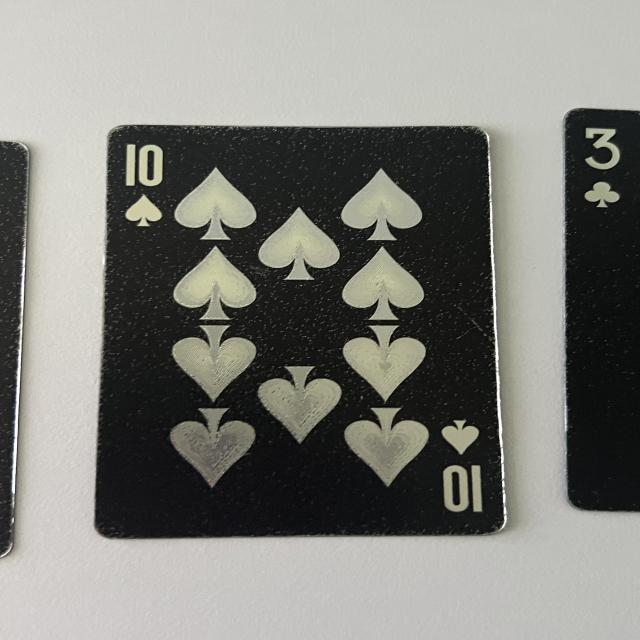10S: (437, 413, 495, 521), (114, 138, 170, 233)
3C: (574, 120, 634, 213)
